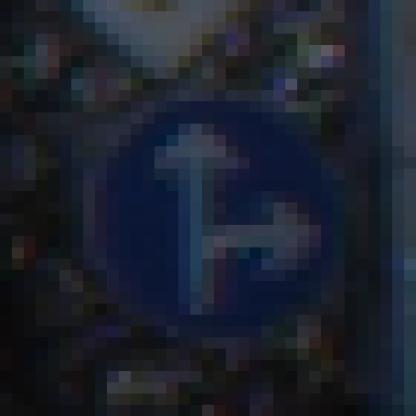Straight or Right: (61, 68, 358, 361)
